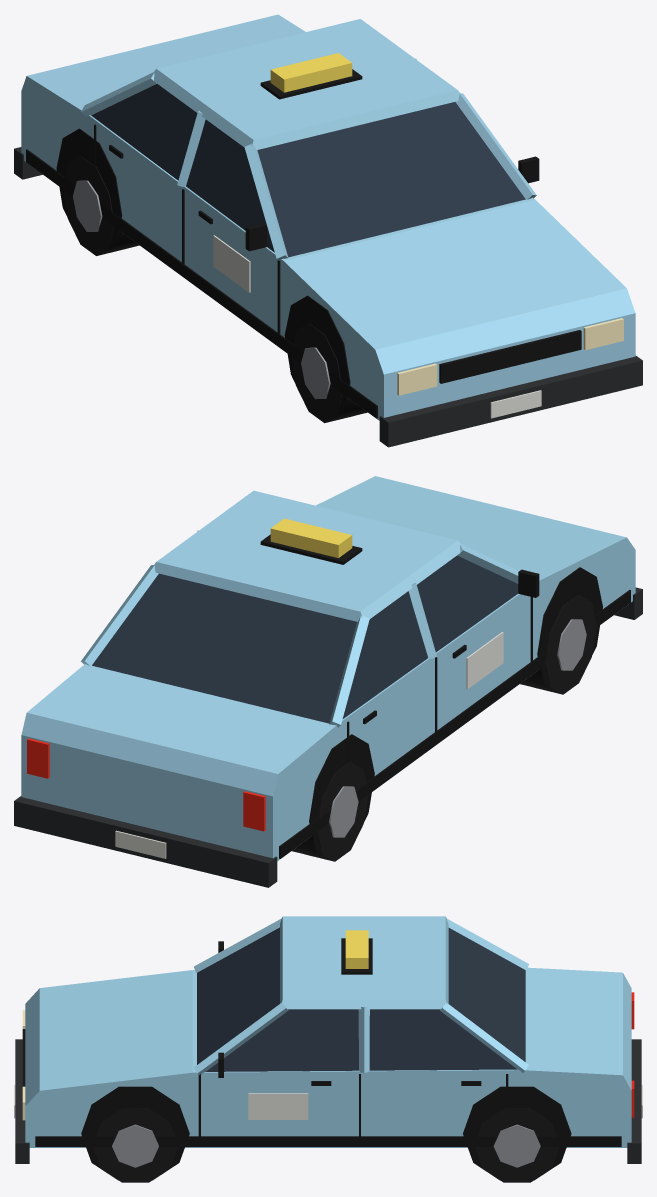
File: sedan.glb
3 renders of one model, top to bottom at view 1: azimuth 30°, elevation 25°; view 2: azimuth 150°, elevation 25°; view 3: azimuth 270°, elevation 25°, orthographic. The views are drawn at different scales.
Visible parts, largest first — view 1: body, wheel_fr, wheel_rr; view 2: body, wheel_fr, wheel_rr; view 3: body, wheel_rl, wheel_fl.
Boxes of the visible parts, x1=… form: body: x1=14, y1=14, x2=642, y2=447; wheel_fr: x1=291, y1=323, x2=350, y2=423; wheel_rr: x1=63, y1=156, x2=113, y2=255; body: x1=14, y1=476, x2=642, y2=887; wheel_fr: x1=537, y1=594, x2=596, y2=694; wheel_rr: x1=313, y1=761, x2=368, y2=861; body: x1=14, y1=916, x2=642, y2=1180; wheel_rl: x1=475, y1=1108, x2=559, y2=1182; wheel_fl: x1=93, y1=1108, x2=177, y2=1182.
Bounding box in the file's own units: 1.96 × 1.44 × 4.4.
1 material, 1 textured.
